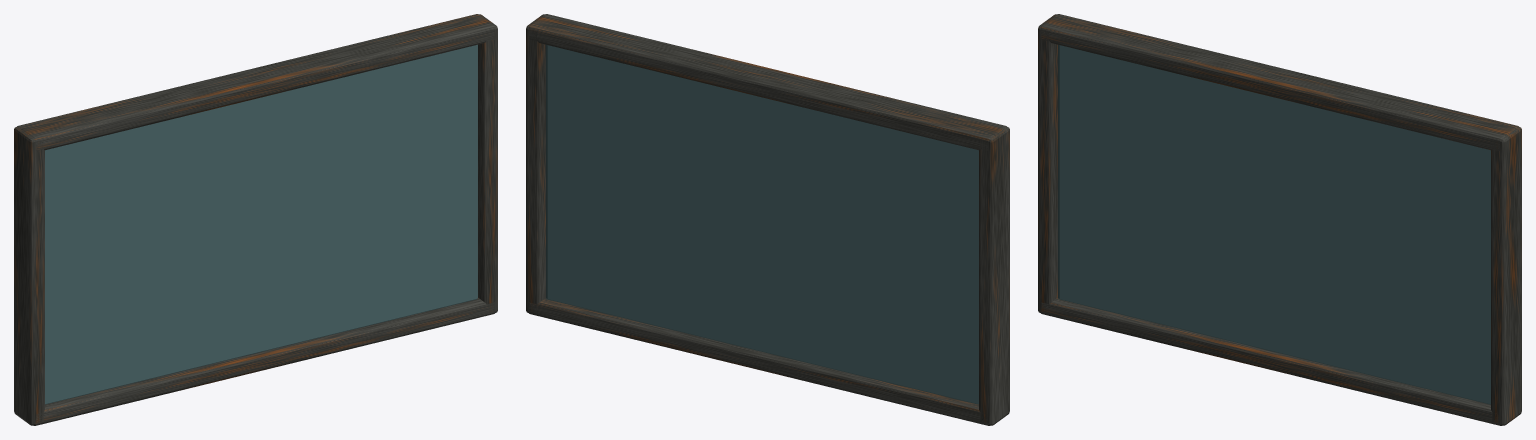
The model's file is jendela.glb.
3 views of the same model, side by side, from view 1: azimuth 30°, elevation 25°; view 2: azimuth 150°, elevation 25°; view 3: azimuth 330°, elevation 25° (orthographic).
Visible parts, largest first — view 1: Kaca.001, Bingkai.001, Bingkai.002, Bingkai, Bingkai.003; view 2: Kaca.001, Bingkai.001, Bingkai.002, Bingkai, Bingkai.003; view 3: Kaca.001, Bingkai.001, Bingkai.003, Bingkai, Bingkai.002.
Boxes of the visible parts, box(x1,y1,x2,y2) form: Kaca.001: box(45, 44, 477, 404); Bingkai.001: box(17, 14, 495, 150); Bingkai.002: box(14, 127, 44, 425); Bingkai: box(34, 298, 494, 425); Bingkai.003: box(478, 14, 497, 312); Kaca.001: box(546, 44, 978, 404); Bingkai.001: box(528, 14, 1006, 150); Bingkai.002: box(979, 127, 1009, 425); Bingkai: box(529, 298, 989, 425); Bingkai.003: box(526, 14, 545, 312); Kaca.001: box(1058, 44, 1490, 404); Bingkai.001: box(1040, 14, 1518, 150); Bingkai.003: box(1491, 127, 1521, 425); Bingkai: box(1041, 298, 1501, 425); Bingkai.002: box(1038, 14, 1057, 312).
Size of the model in its own units: 1.76 by 1.04 by 0.12.
Materials: 2 (1 with a texture image).
